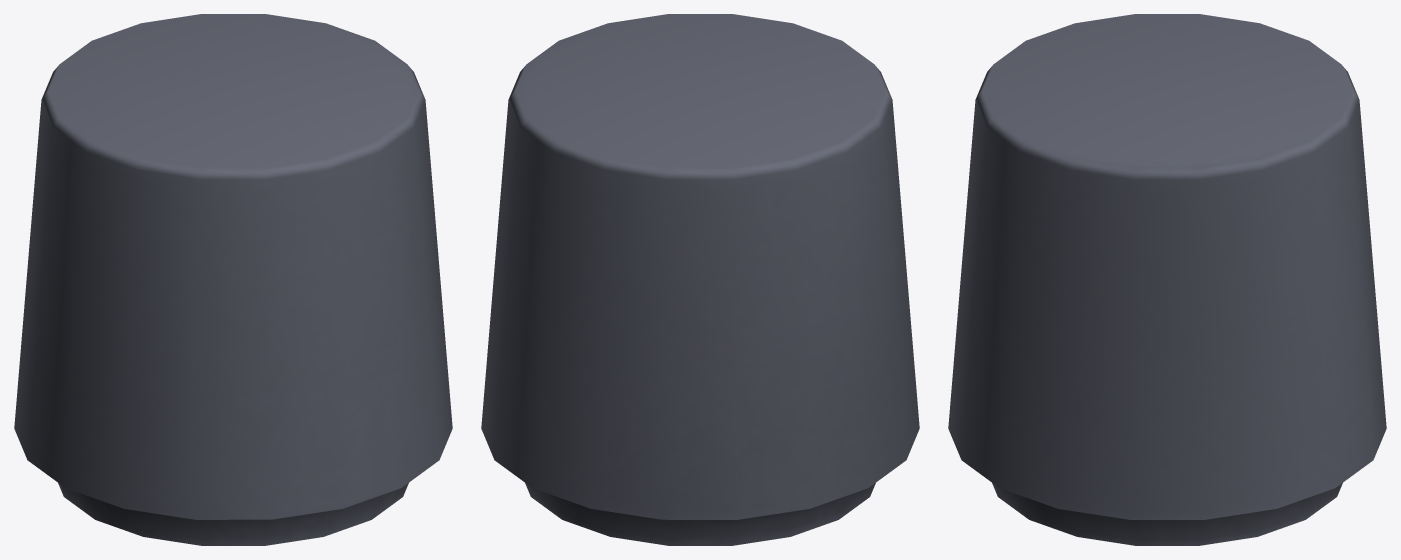
The model's file is Dial 4.fbx.
3 views of the same model, side by side, from view 1: azimuth 30°, elevation 25°; view 2: azimuth 150°, elevation 25°; view 3: azimuth 270°, elevation 25° (orthographic).
Parts seen in each view (by area): view 1: Dial_4; view 2: Dial_4; view 3: Dial_4.
Part boxes in pixels (x1=…): Dial_4: x1=14, y1=14, x2=452, y2=545; Dial_4: x1=481, y1=14, x2=919, y2=545; Dial_4: x1=948, y1=14, x2=1386, y2=545.
Bounding box in the file's own units: 1.95 × 1.91 × 1.98.
